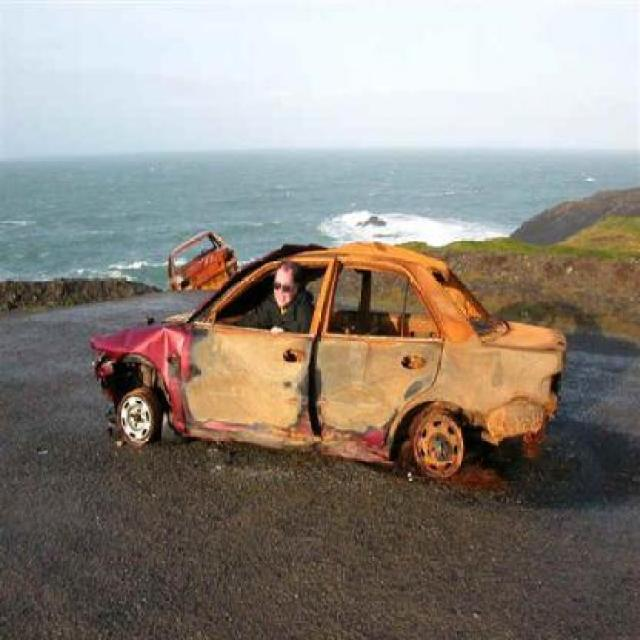corrosion: (88, 225, 566, 483)
